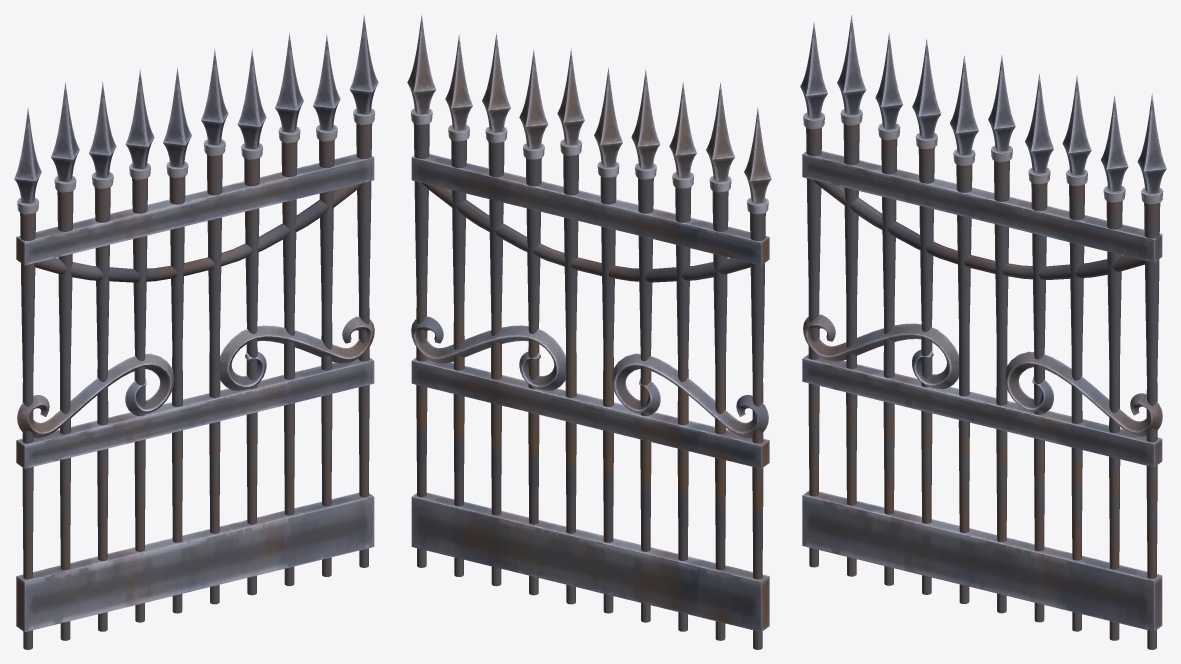
Rendered from med-grade-ornamentada.gltf.
3 views of the same model, side by side, from view 1: azimuth 30°, elevation 25°; view 2: azimuth 150°, elevation 25°; view 3: azimuth 330°, elevation 25° (orthographic).
Visible parts, largest first — view 1: Prop_MetalFence_Ornament; view 2: Prop_MetalFence_Ornament; view 3: Prop_MetalFence_Ornament.
Boxes of the visible parts, <box> form: Prop_MetalFence_Ornament: <box>14,14,378,649</box>; Prop_MetalFence_Ornament: <box>407,14,771,649</box>; Prop_MetalFence_Ornament: <box>800,15,1166,649</box>.
Size of the model in its own units: 0.9761 by 1.43 by 0.078.
1 material, 1 textured.
